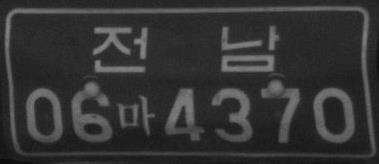0: (312, 85, 355, 144), (23, 85, 64, 144)
3: (211, 86, 254, 143)
4: (163, 87, 204, 141)
6: (69, 87, 113, 144)
7: (260, 86, 301, 143)
마: (116, 93, 155, 137)
전남_D: (92, 24, 280, 72)
